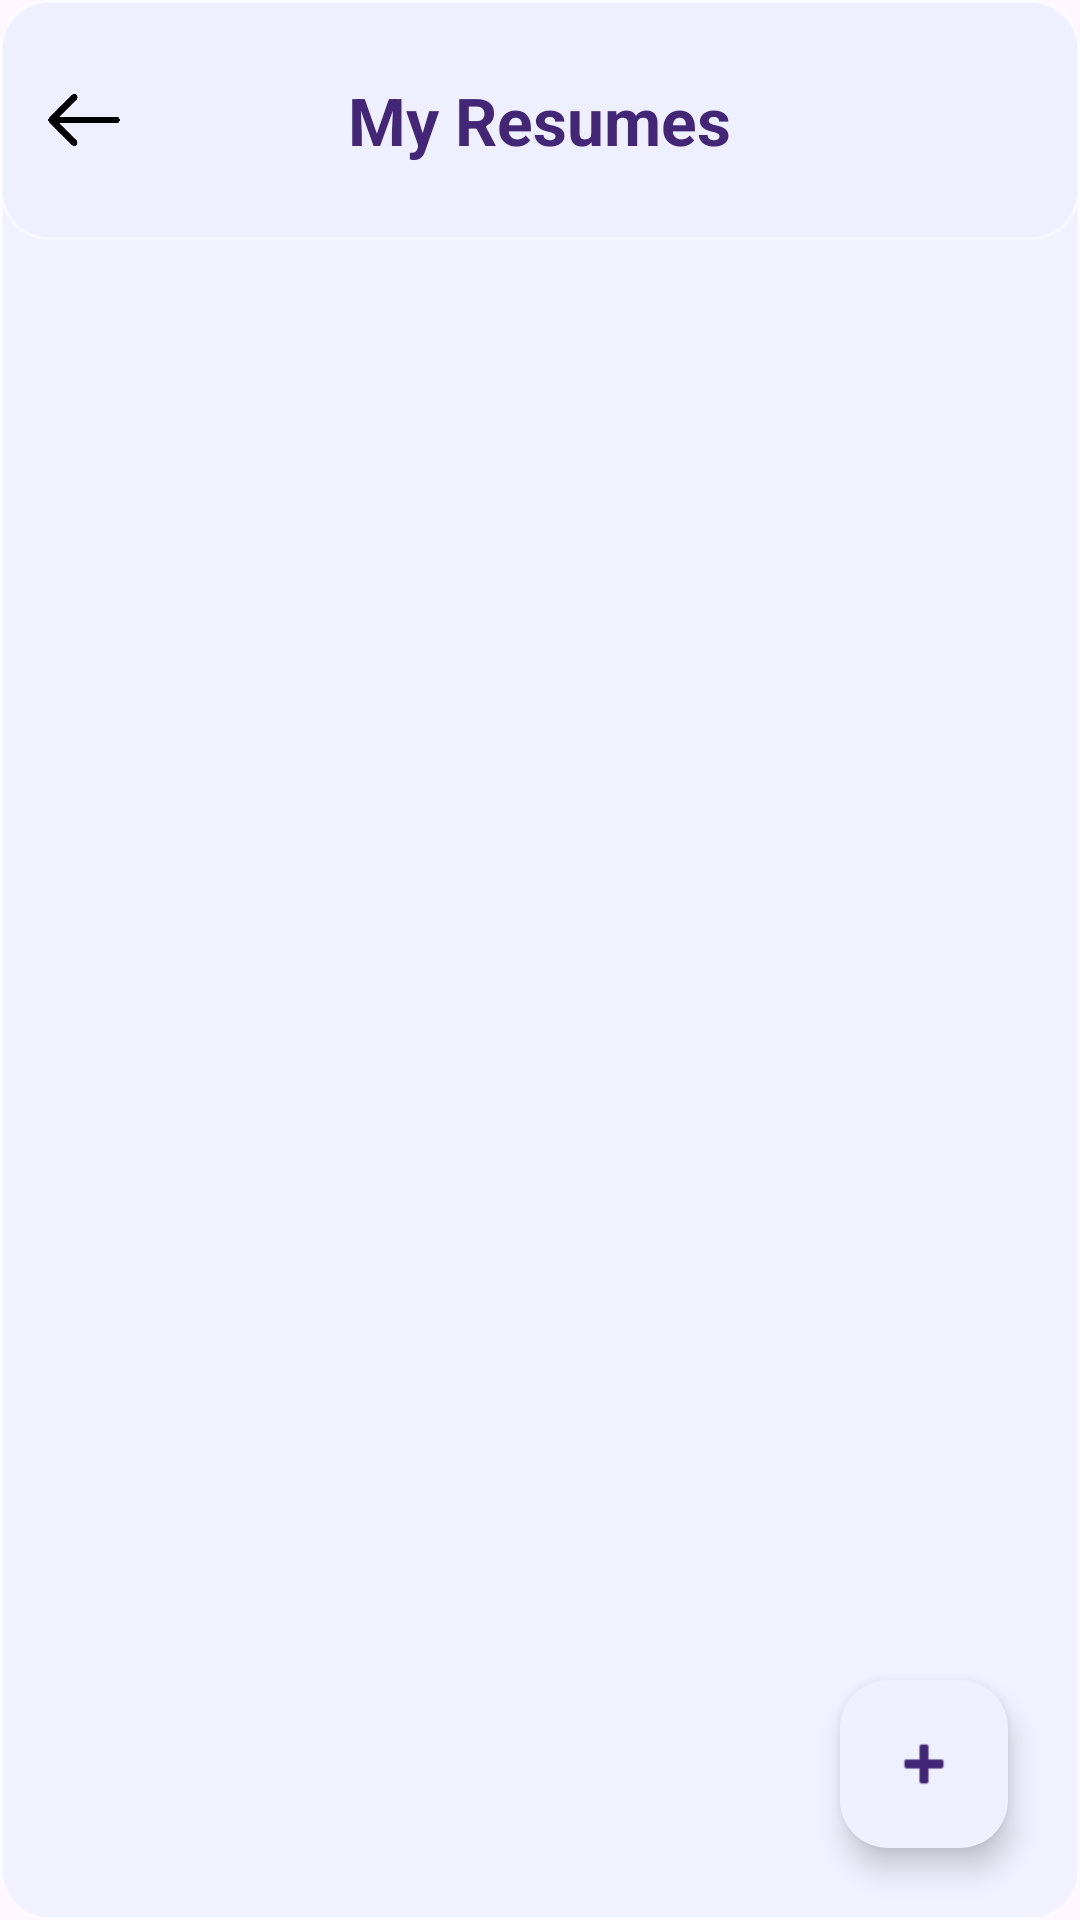

Named icons in this screenshot (1080px×1920px) and their centers, [x,y]:
Add Resume: [924,1764]
Back: [84,120]
